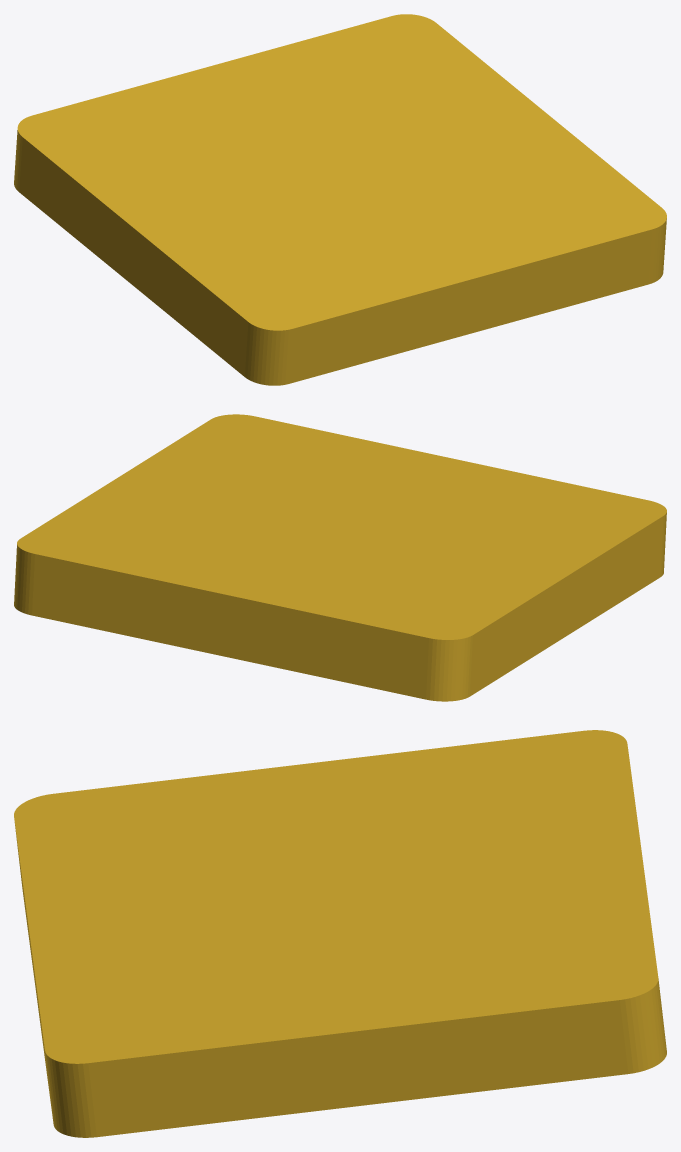
The model's file is original-83.obj.
3 views of the same model, one above another, from view 1: azimuth 30°, elevation 25°; view 2: azimuth 150°, elevation 25°; view 3: azimuth 270°, elevation 25° (orthographic). The views are drawn at different scales.
Parts seen in each view (by area): view 1: mesh81/mesh81-geometry#mesh81-geometry; view 2: mesh81/mesh81-geometry#mesh81-geometry; view 3: mesh81/mesh81-geometry#mesh81-geometry.
Part boxes in pixels (left/top/right/bottom): mesh81/mesh81-geometry#mesh81-geometry: left=14, top=14, right=666, bottom=385; mesh81/mesh81-geometry#mesh81-geometry: left=14, top=414, right=666, bottom=701; mesh81/mesh81-geometry#mesh81-geometry: left=14, top=730, right=666, bottom=1137.
Bounding box in the file's own units: 0.0741 × 0.0162 × 0.0725.
